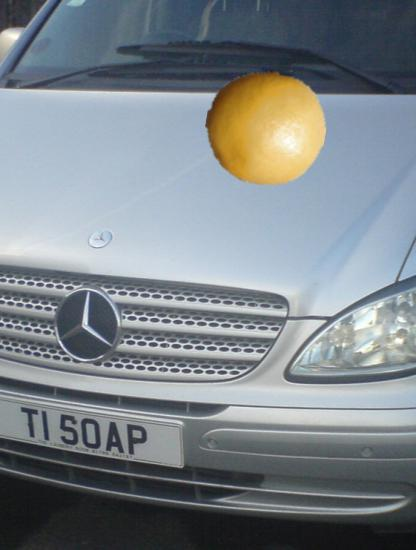Grapefruit: (206, 68, 326, 188)
